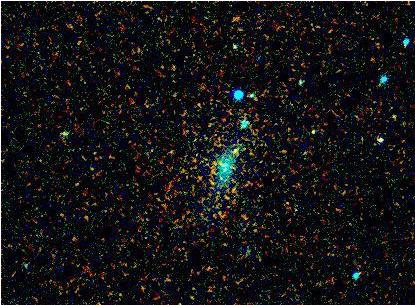star: (219, 136, 249, 166)
